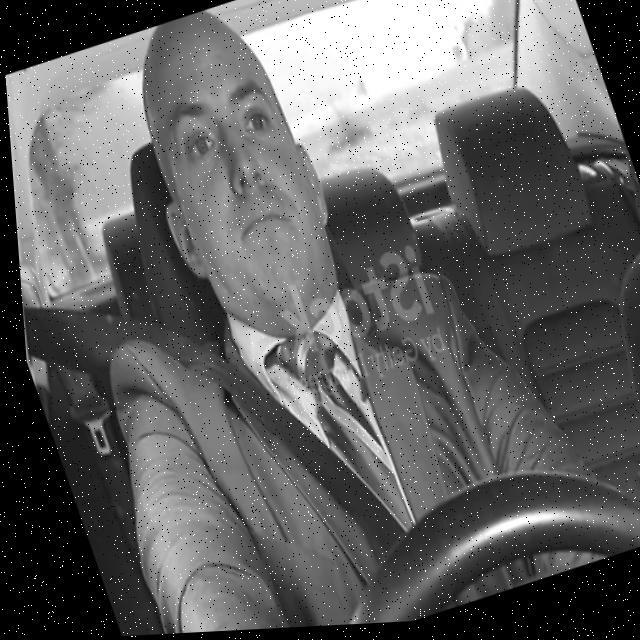PhoneCall: (619, 437, 640, 548)
